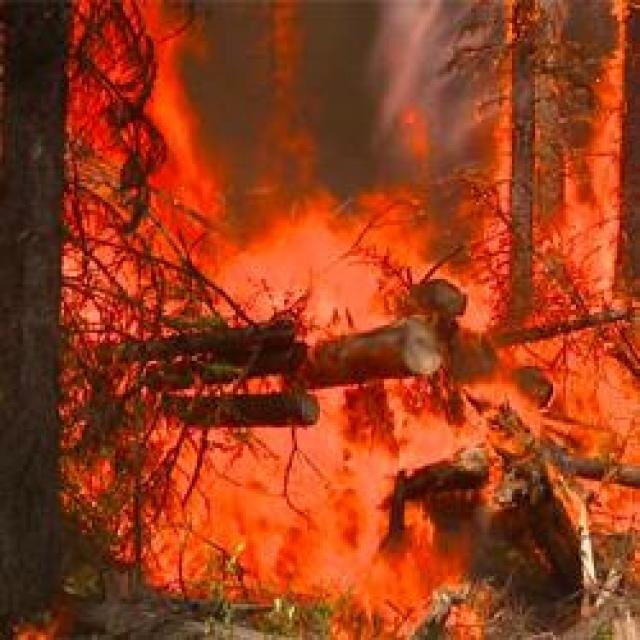fire: (78, 2, 640, 621)
